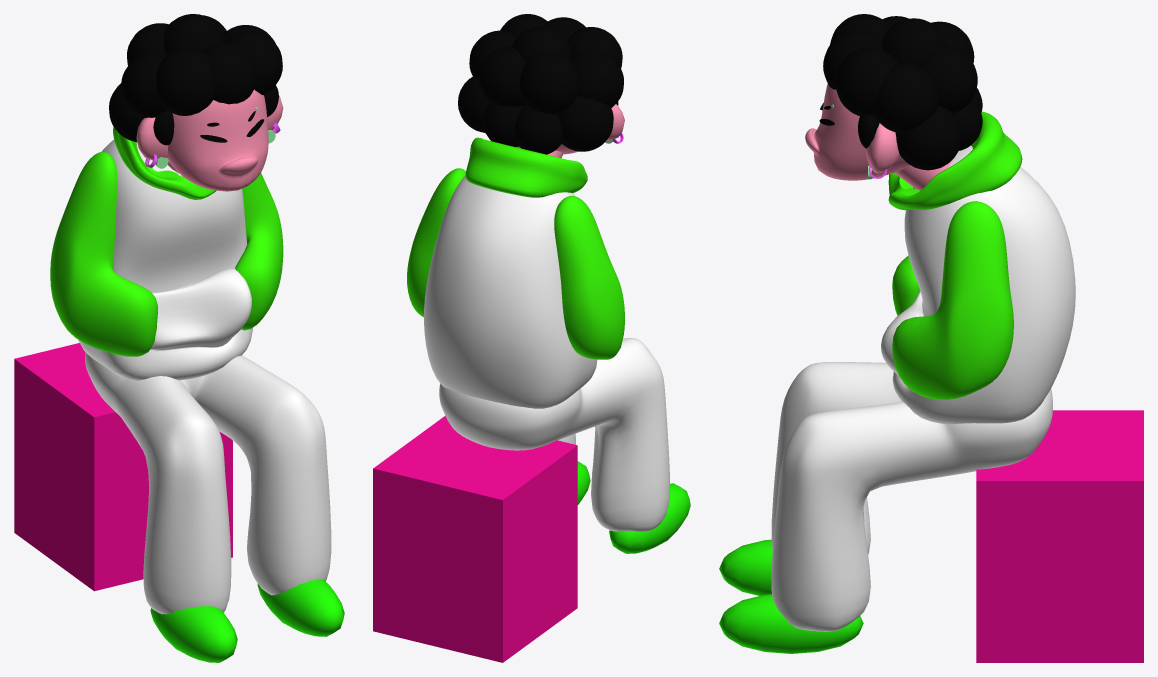
Rendered from main.glb.
3 renders of one model, left to right at view 1: azimuth 30°, elevation 25°; view 2: azimuth 150°, elevation 25°; view 3: azimuth 270°, elevation 25°, orthographic. The views are drawn at different scales.
Visible parts, largest first — view 1: pCube10, pCube9, pCube7, pCube11, hair, pCube1, pCube13, pCube12, pCube8; view 2: pCube9, pCube7, pCube10, hair, pCube11, pCube8, pCube13, 구체.003, pCube1; view 3: pCube9, pCube10, pCube7, pCube11, hair, pCube1, pCube8, pCube12, 구체.003, pCube13.
Part boxes in pixels (bbox=[...]): pCube10: bbox=[85, 352, 331, 614]; pCube9: bbox=[14, 343, 232, 591]; pCube7: bbox=[78, 140, 252, 380]; pCube11: bbox=[50, 152, 283, 356]; hair: bbox=[109, 14, 282, 145]; pCube1: bbox=[136, 89, 283, 191]; pCube13: bbox=[150, 606, 237, 662]; pCube12: bbox=[257, 579, 344, 636]; pCube8: bbox=[113, 127, 216, 199]; pCube9: bbox=[373, 416, 577, 662]; pCube7: bbox=[424, 175, 597, 408]; pCube10: bbox=[439, 338, 669, 531]; hair: bbox=[469, 14, 623, 154]; pCube11: bbox=[407, 168, 624, 359]; pCube8: bbox=[465, 137, 587, 197]; pCube13: bbox=[609, 483, 690, 553]; 구체.003: bbox=[458, 76, 490, 132]; pCube1: bbox=[518, 104, 624, 158]; pCube9: bbox=[976, 410, 1143, 662]; pCube10: bbox=[771, 362, 1052, 631]; pCube7: bbox=[881, 145, 1075, 424]; pCube11: bbox=[892, 201, 1013, 399]; hair: bbox=[823, 14, 982, 150]; pCube1: bbox=[805, 84, 953, 189]; pCube8: bbox=[888, 111, 1022, 210]; pCube12: bbox=[719, 594, 863, 653]; 구체.003: bbox=[895, 105, 961, 170]; pCube13: bbox=[719, 539, 772, 595].
Size of the model in its own units: 0.4732 by 1.2 by 0.7618.
